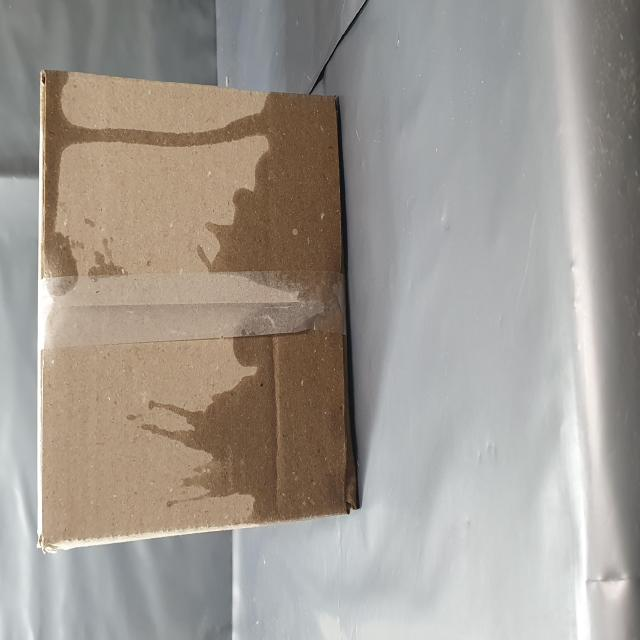wet: (199, 70, 324, 613), (60, 282, 172, 630)
